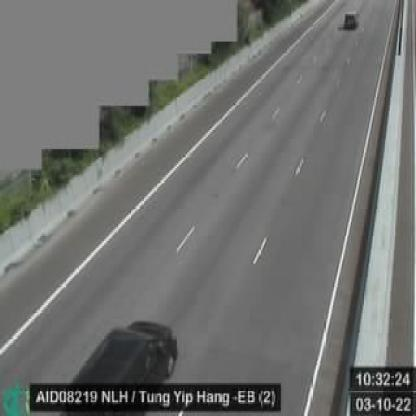Car: (342, 8, 356, 28)
